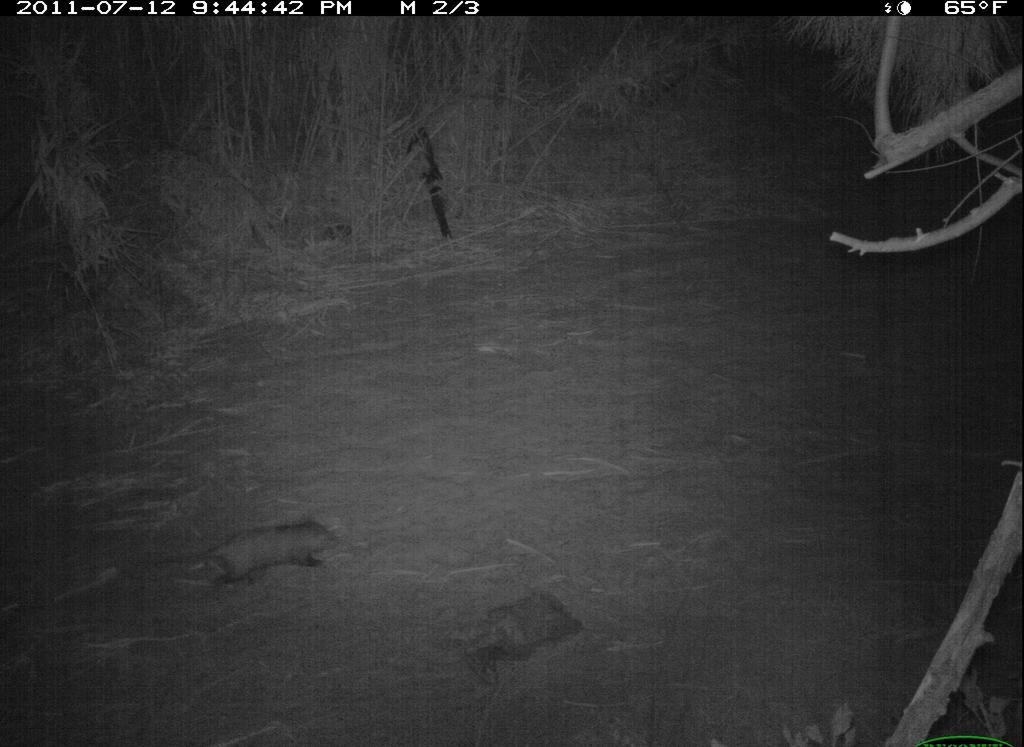opossum: (212, 511, 336, 628)
